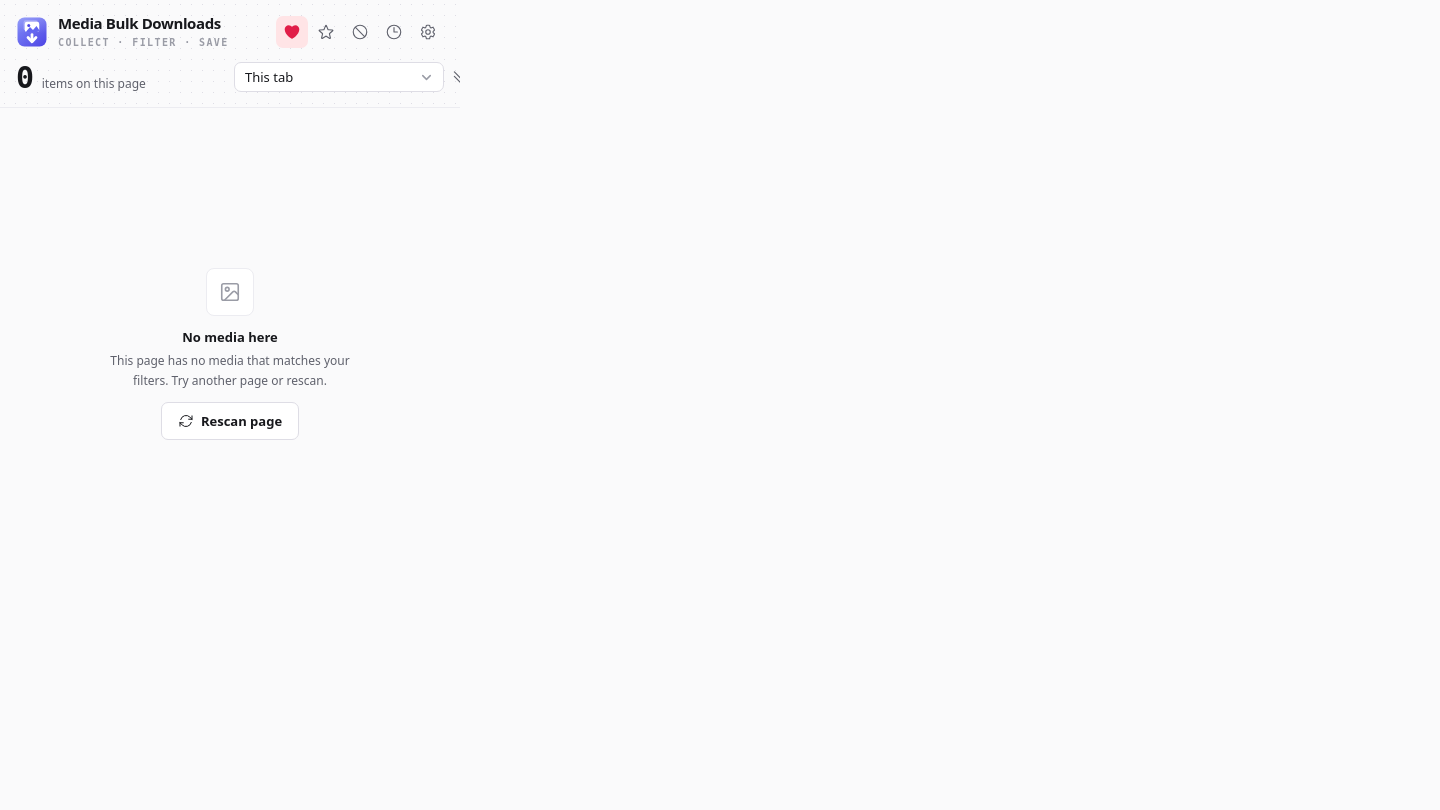
App Component › opens and closes the Favourites panel from the header
Click the button named "favourites": (326, 32) [310,16,342,48]
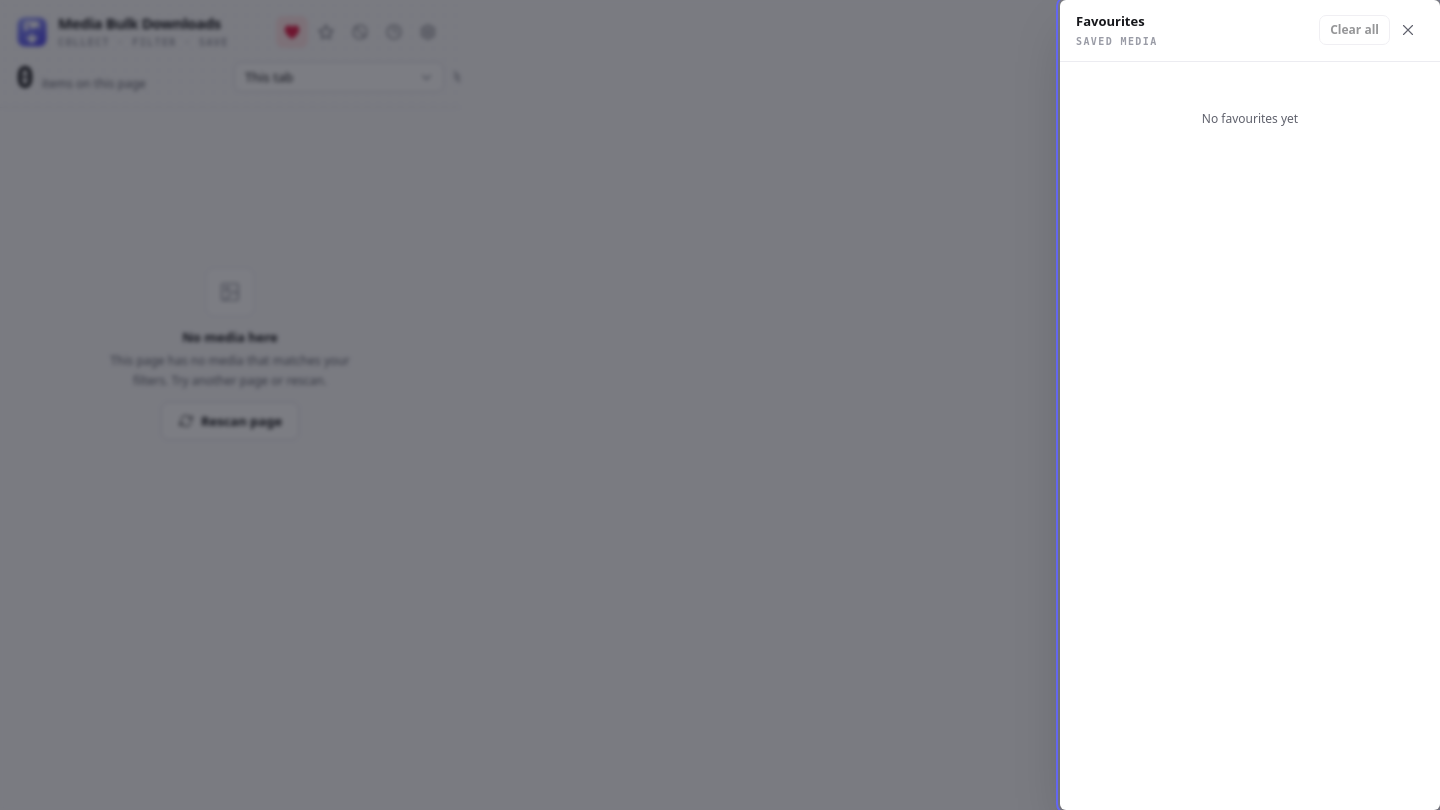
Check: the text "Saved media" is shown, box [1076,34,1158,48]
Press Escape
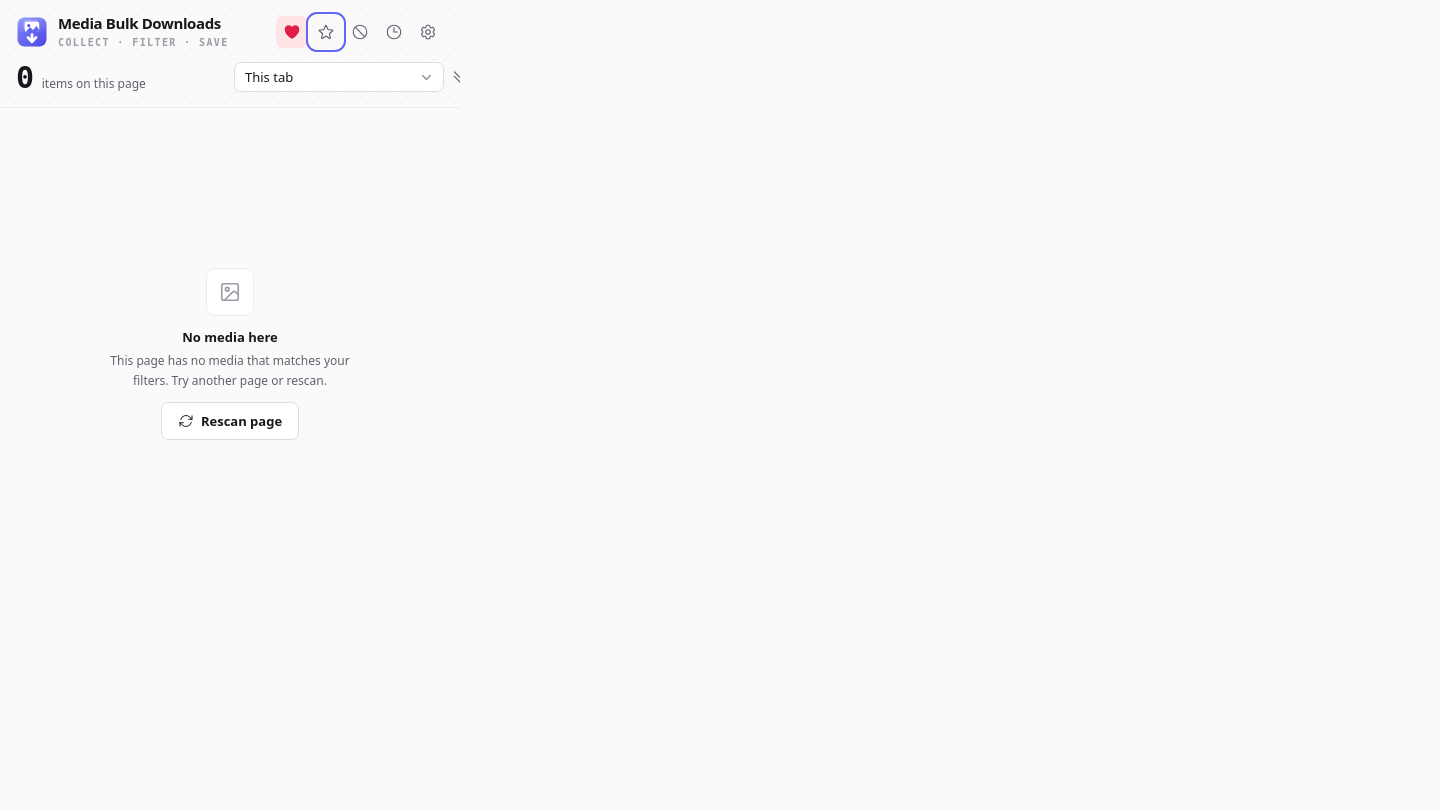
Check: the text "Saved media" is gone
